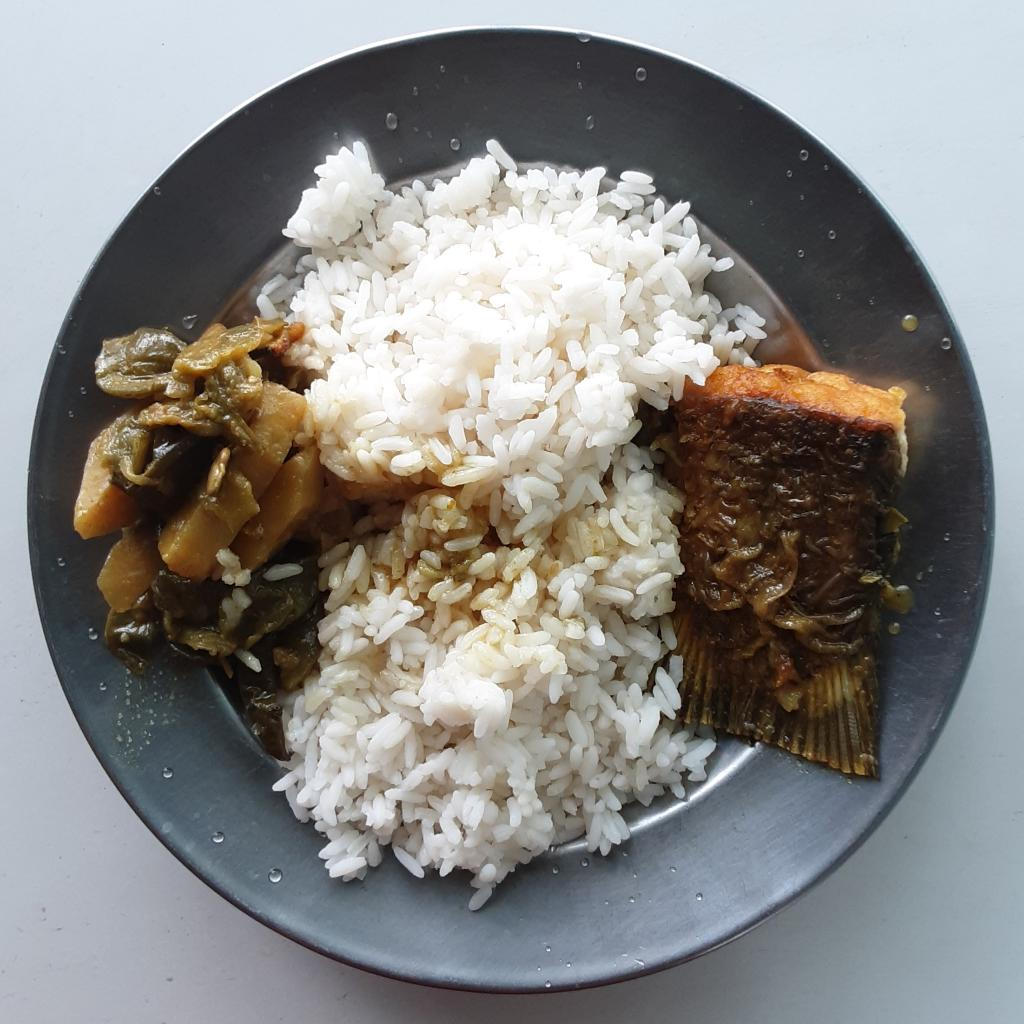begun-vaji: (96, 319, 271, 510), (231, 579, 314, 758), (95, 569, 234, 675)
fish: (651, 362, 909, 785)
potato: (79, 362, 330, 617)
rice: (215, 139, 766, 917)
